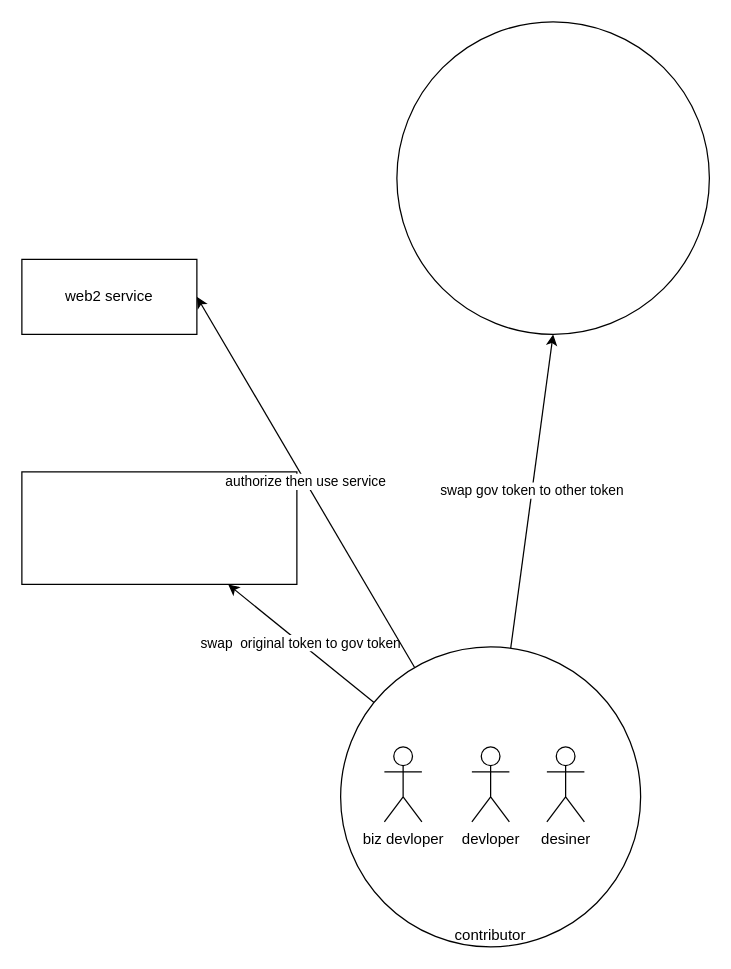
This 731x969 diagram has some shape labels left out. The centre of each missing label's shape, as x and y in pixels:
"Chain" goes at point (159, 527).
"dex or cex" goes at point (552, 177).
